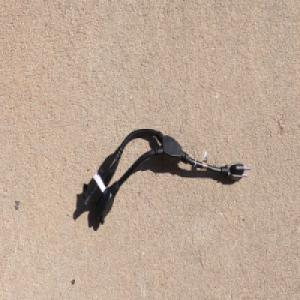Wire: (80, 128, 251, 225)
